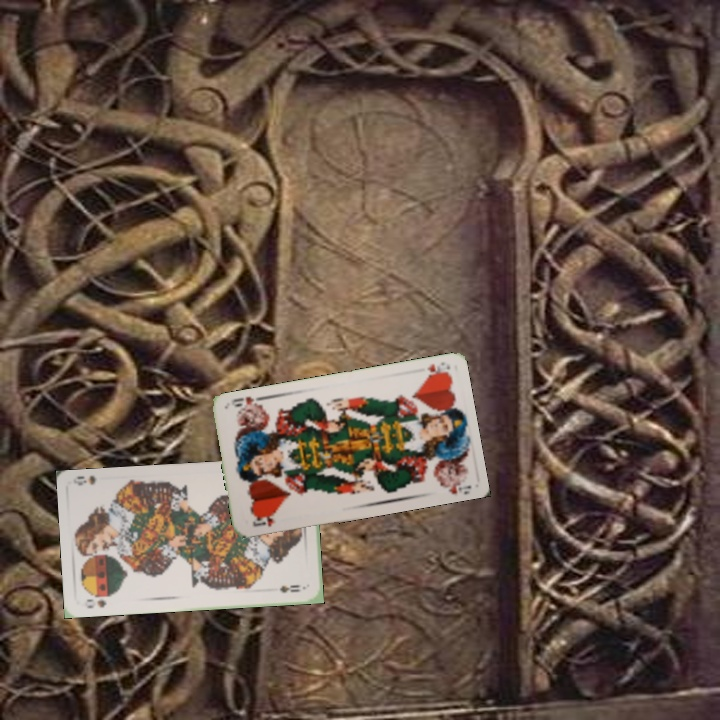HO: (422, 358, 451, 380), (249, 509, 280, 529)
SO: (83, 595, 108, 610)
